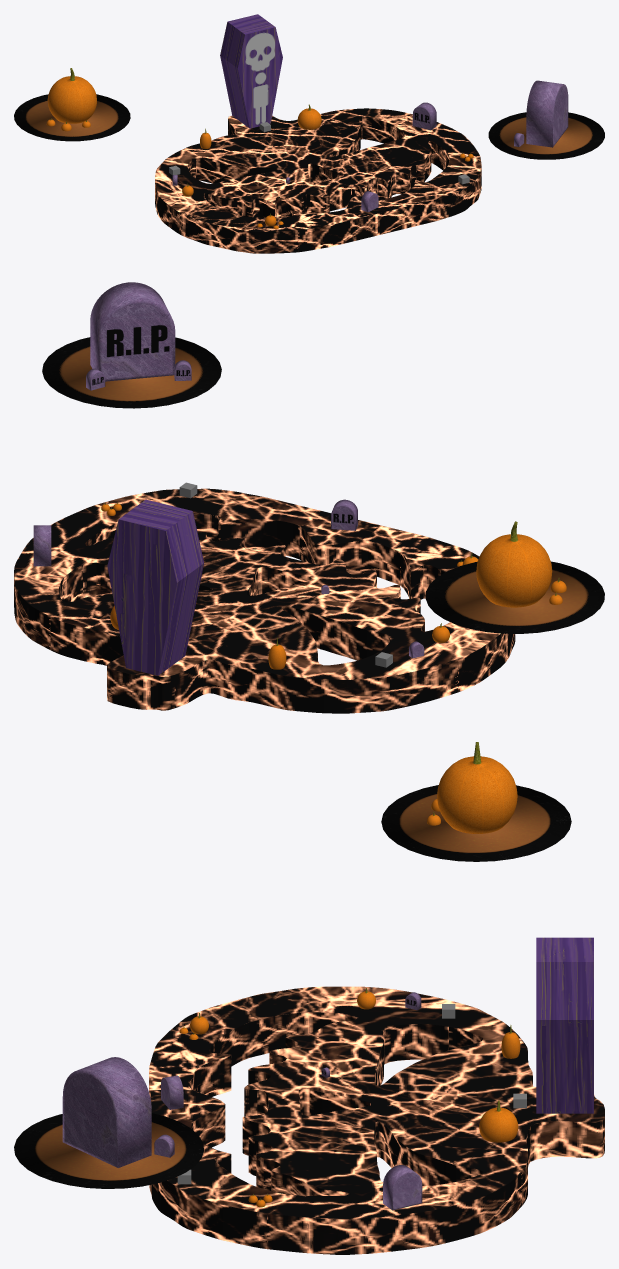
Rendered from Hallows Thrash.fbx.
The picture shows the model from 3 angles, top to bottom: view 1: azimuth 30°, elevation 25°; view 2: azimuth 150°, elevation 25°; view 3: azimuth 270°, elevation 25°; orthographic projection. The views are drawn at different scales.
Visible parts, largest first — view 1: MainIsland, Coffin, Cone, Cone_001, Cube_005, Sphere_005, Cube_002, Sphere_001; view 2: MainIsland, Coffin, Cone_001, Cube_005, Cone, Sphere_005, Cube_002, Cube_003; view 3: MainIsland, Coffin, Cone_001, Cube_005, Cone, Sphere_005, Cube_002, Sphere_001, Cube_003.
Boxes of the visible parts, <box> form: MainIsland: <box>155,108,481,253</box>; Coffin: <box>220,14,282,128</box>; Cone: <box>488,112,604,159</box>; Cone_001: <box>14,94,130,141</box>; Cube_005: <box>526,80,568,147</box>; Sphere_005: <box>47,68,96,123</box>; Cube_002: <box>412,102,436,130</box>; Sphere_001: <box>297,104,321,129</box>; MainIsland: <box>14,488,515,713</box>; Coffin: <box>107,499,203,675</box>; Cone_001: <box>425,561,604,633</box>; Cube_005: <box>90,282,175,381</box>; Cone: <box>42,337,221,408</box>; Sphere_005: <box>476,521,552,607</box>; Cube_002: <box>33,525,51,566</box>; Cube_003: <box>331,499,357,530</box>; MainIsland: <box>149,986,604,1254</box>; Coffin: <box>536,937,593,1113</box>; Cone_001: <box>381,785,571,861</box>; Cube_005: <box>62,1057,151,1167</box>; Cone: <box>14,1113,203,1188</box>; Sphere_005: <box>437,742,517,833</box>; Cube_002: <box>383,1165,422,1210</box>; Sphere_001: <box>479,1100,518,1142</box>; Cube_003: <box>161,1075,183,1109</box>.
Size of the model in its own units: 6436 by 1911 by 4367.
